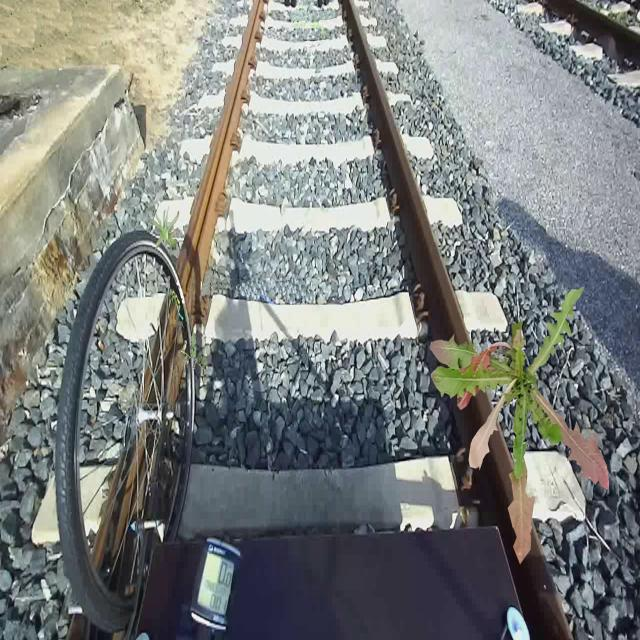Plant: (430, 287, 610, 565), (147, 205, 180, 251), (180, 334, 208, 375)
